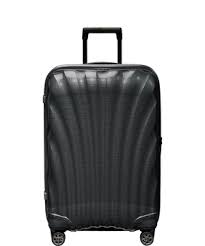suitcase: (40, 27, 163, 246)
